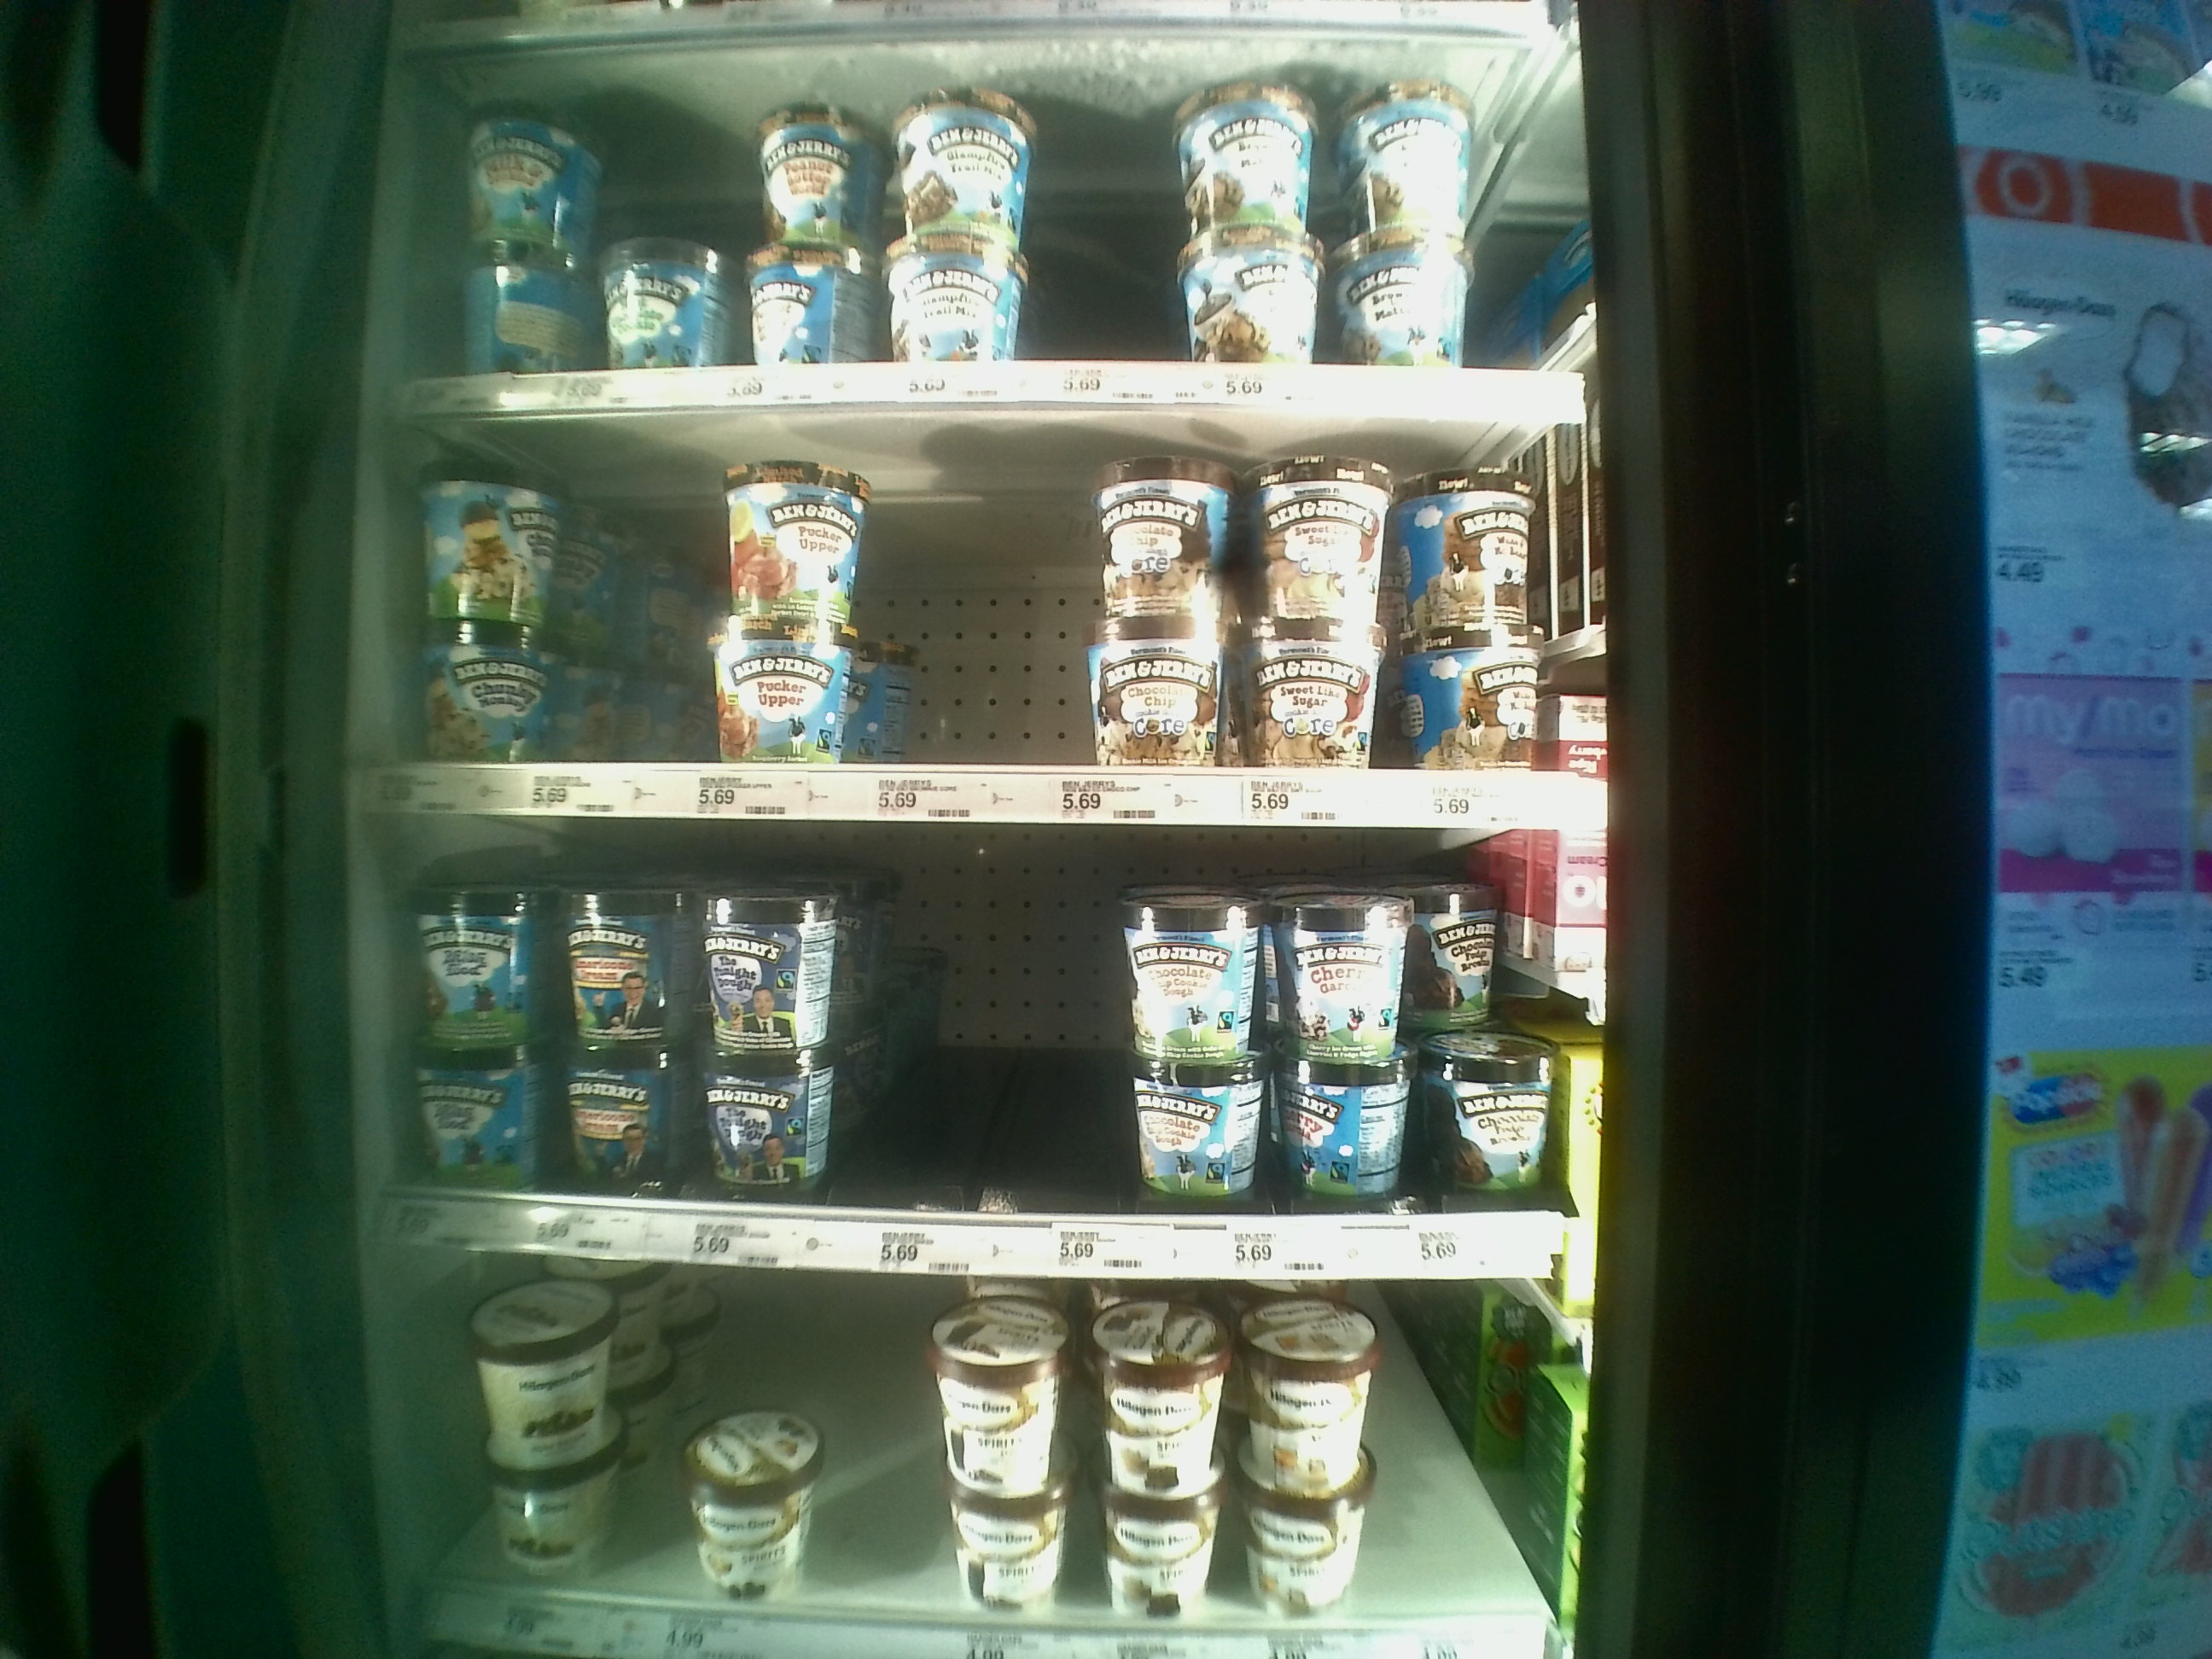ice-cream-shelf: (376, 817, 1616, 1269), (380, 408, 1623, 812), (388, 42, 1629, 410)
